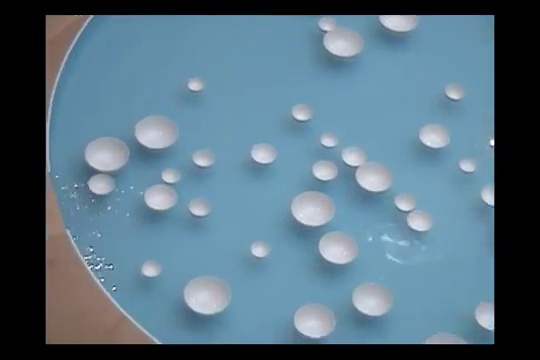bowl: (182, 273, 233, 315), (131, 113, 184, 150), (288, 190, 338, 227), (291, 301, 337, 339), (315, 228, 360, 265), (84, 137, 131, 172), (350, 281, 394, 316), (322, 27, 365, 59), (354, 161, 395, 192), (142, 185, 181, 212), (417, 121, 452, 150), (378, 13, 421, 34), (85, 172, 120, 195), (475, 293, 494, 330), (310, 159, 338, 184), (405, 209, 434, 232), (421, 331, 469, 344), (290, 102, 316, 124), (341, 145, 368, 166), (393, 190, 418, 212), (251, 142, 277, 163), (190, 149, 217, 169), (187, 197, 214, 217), (249, 239, 272, 259), (159, 166, 184, 184), (444, 80, 464, 102), (141, 258, 163, 278), (457, 157, 479, 175), (481, 179, 494, 208), (317, 16, 339, 32), (320, 131, 340, 148), (186, 77, 206, 92)
